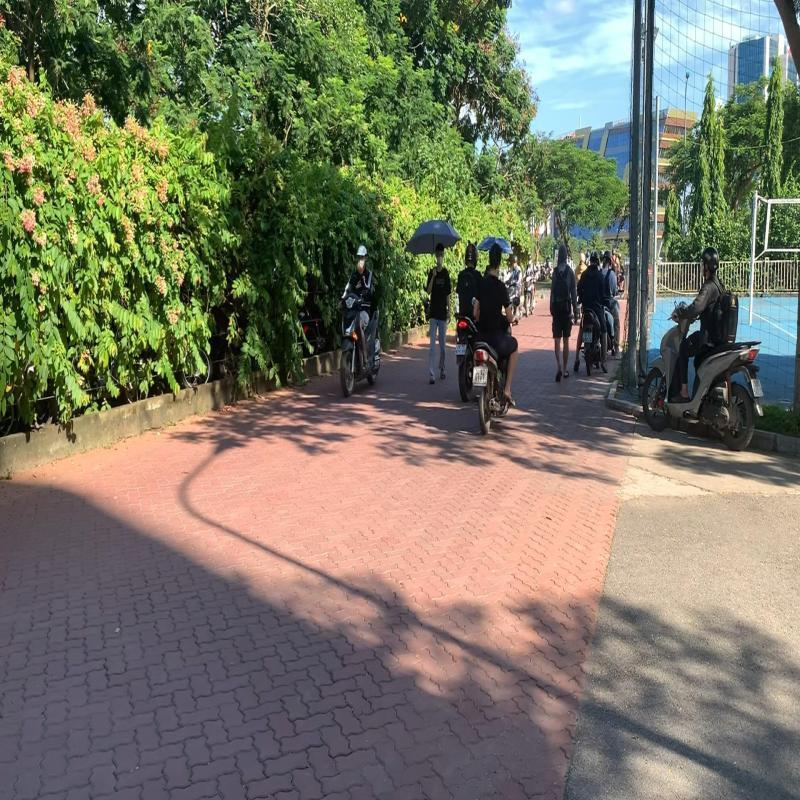nohelmet: (486, 242, 504, 274)
